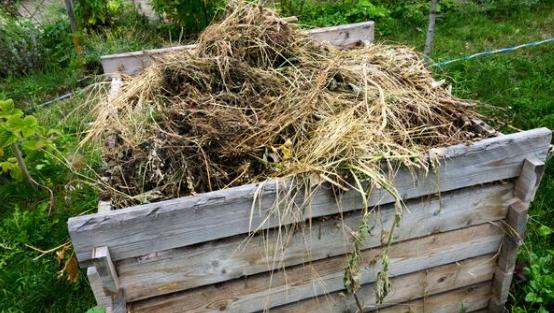organic: (0, 33, 540, 307)
